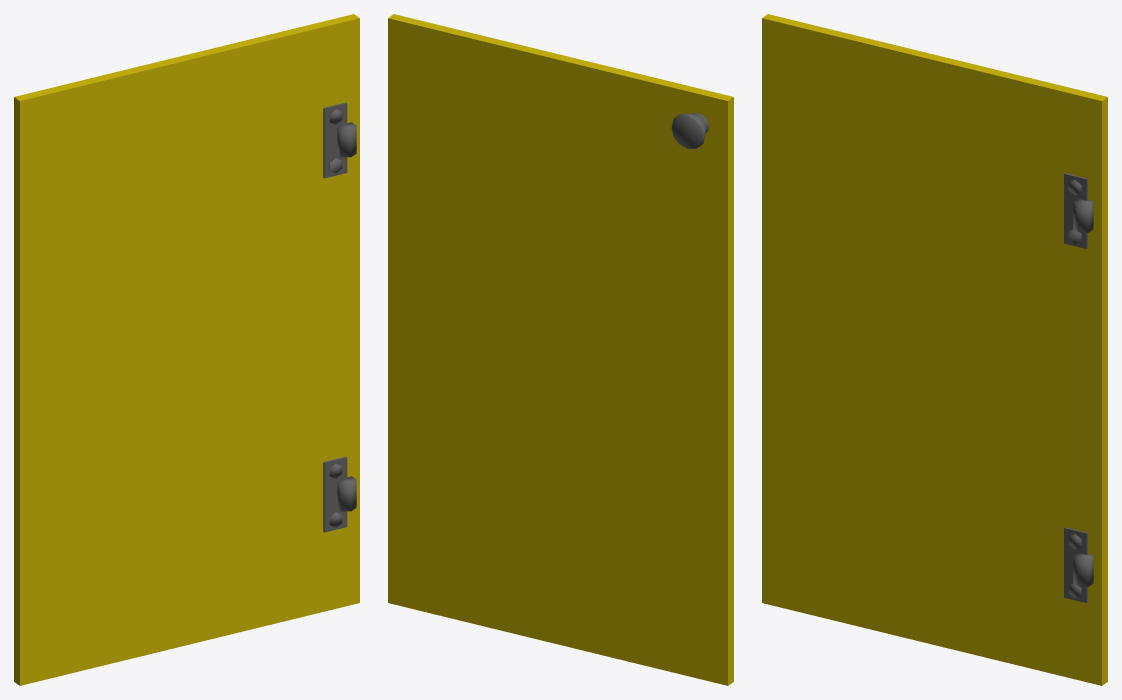
File: SNWP_MOD_BUN_Kitchen_cabinet_door_03.fbx
3 views of the same model, side by side, from view 1: azimuth 30°, elevation 25°; view 2: azimuth 150°, elevation 25°; view 3: azimuth 330°, elevation 25° (orthographic).
Parts seen in each view (by area): view 1: SNWP_MOD_Kitchen_cabinet_door_03; view 2: SNWP_MOD_Kitchen_cabinet_door_03; view 3: SNWP_MOD_Kitchen_cabinet_door_03.
Part boxes in pixels (<box>): SNWP_MOD_Kitchen_cabinet_door_03: <box>14,14,359,685</box>; SNWP_MOD_Kitchen_cabinet_door_03: <box>388,14,733,685</box>; SNWP_MOD_Kitchen_cabinet_door_03: <box>762,14,1107,685</box>.
Size of the model in its own units: 0.4369 by 0.7179 by 0.0561.
